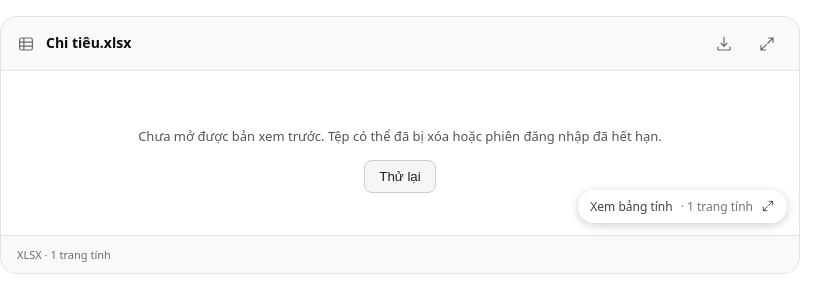
bảng tính lỗi tải số liệu vẫn giữ nút tải và thử lại được
Expected: the message shows "Chưa mở được", [138,127,662,145]
Expected: the link named "Tải Chi tiêu.xlsx" is shown, [715,34,733,52]
What coordinates should you click on to do the following:
click the button "Thử lại"
I would click on:
 (400, 176)
Its box is [364,160,436,193].
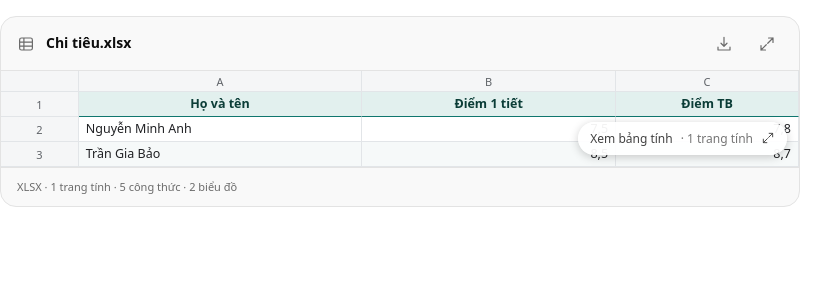
Expected: the text "Trần Gia Bảo" is shown, [79,142,362,167]
